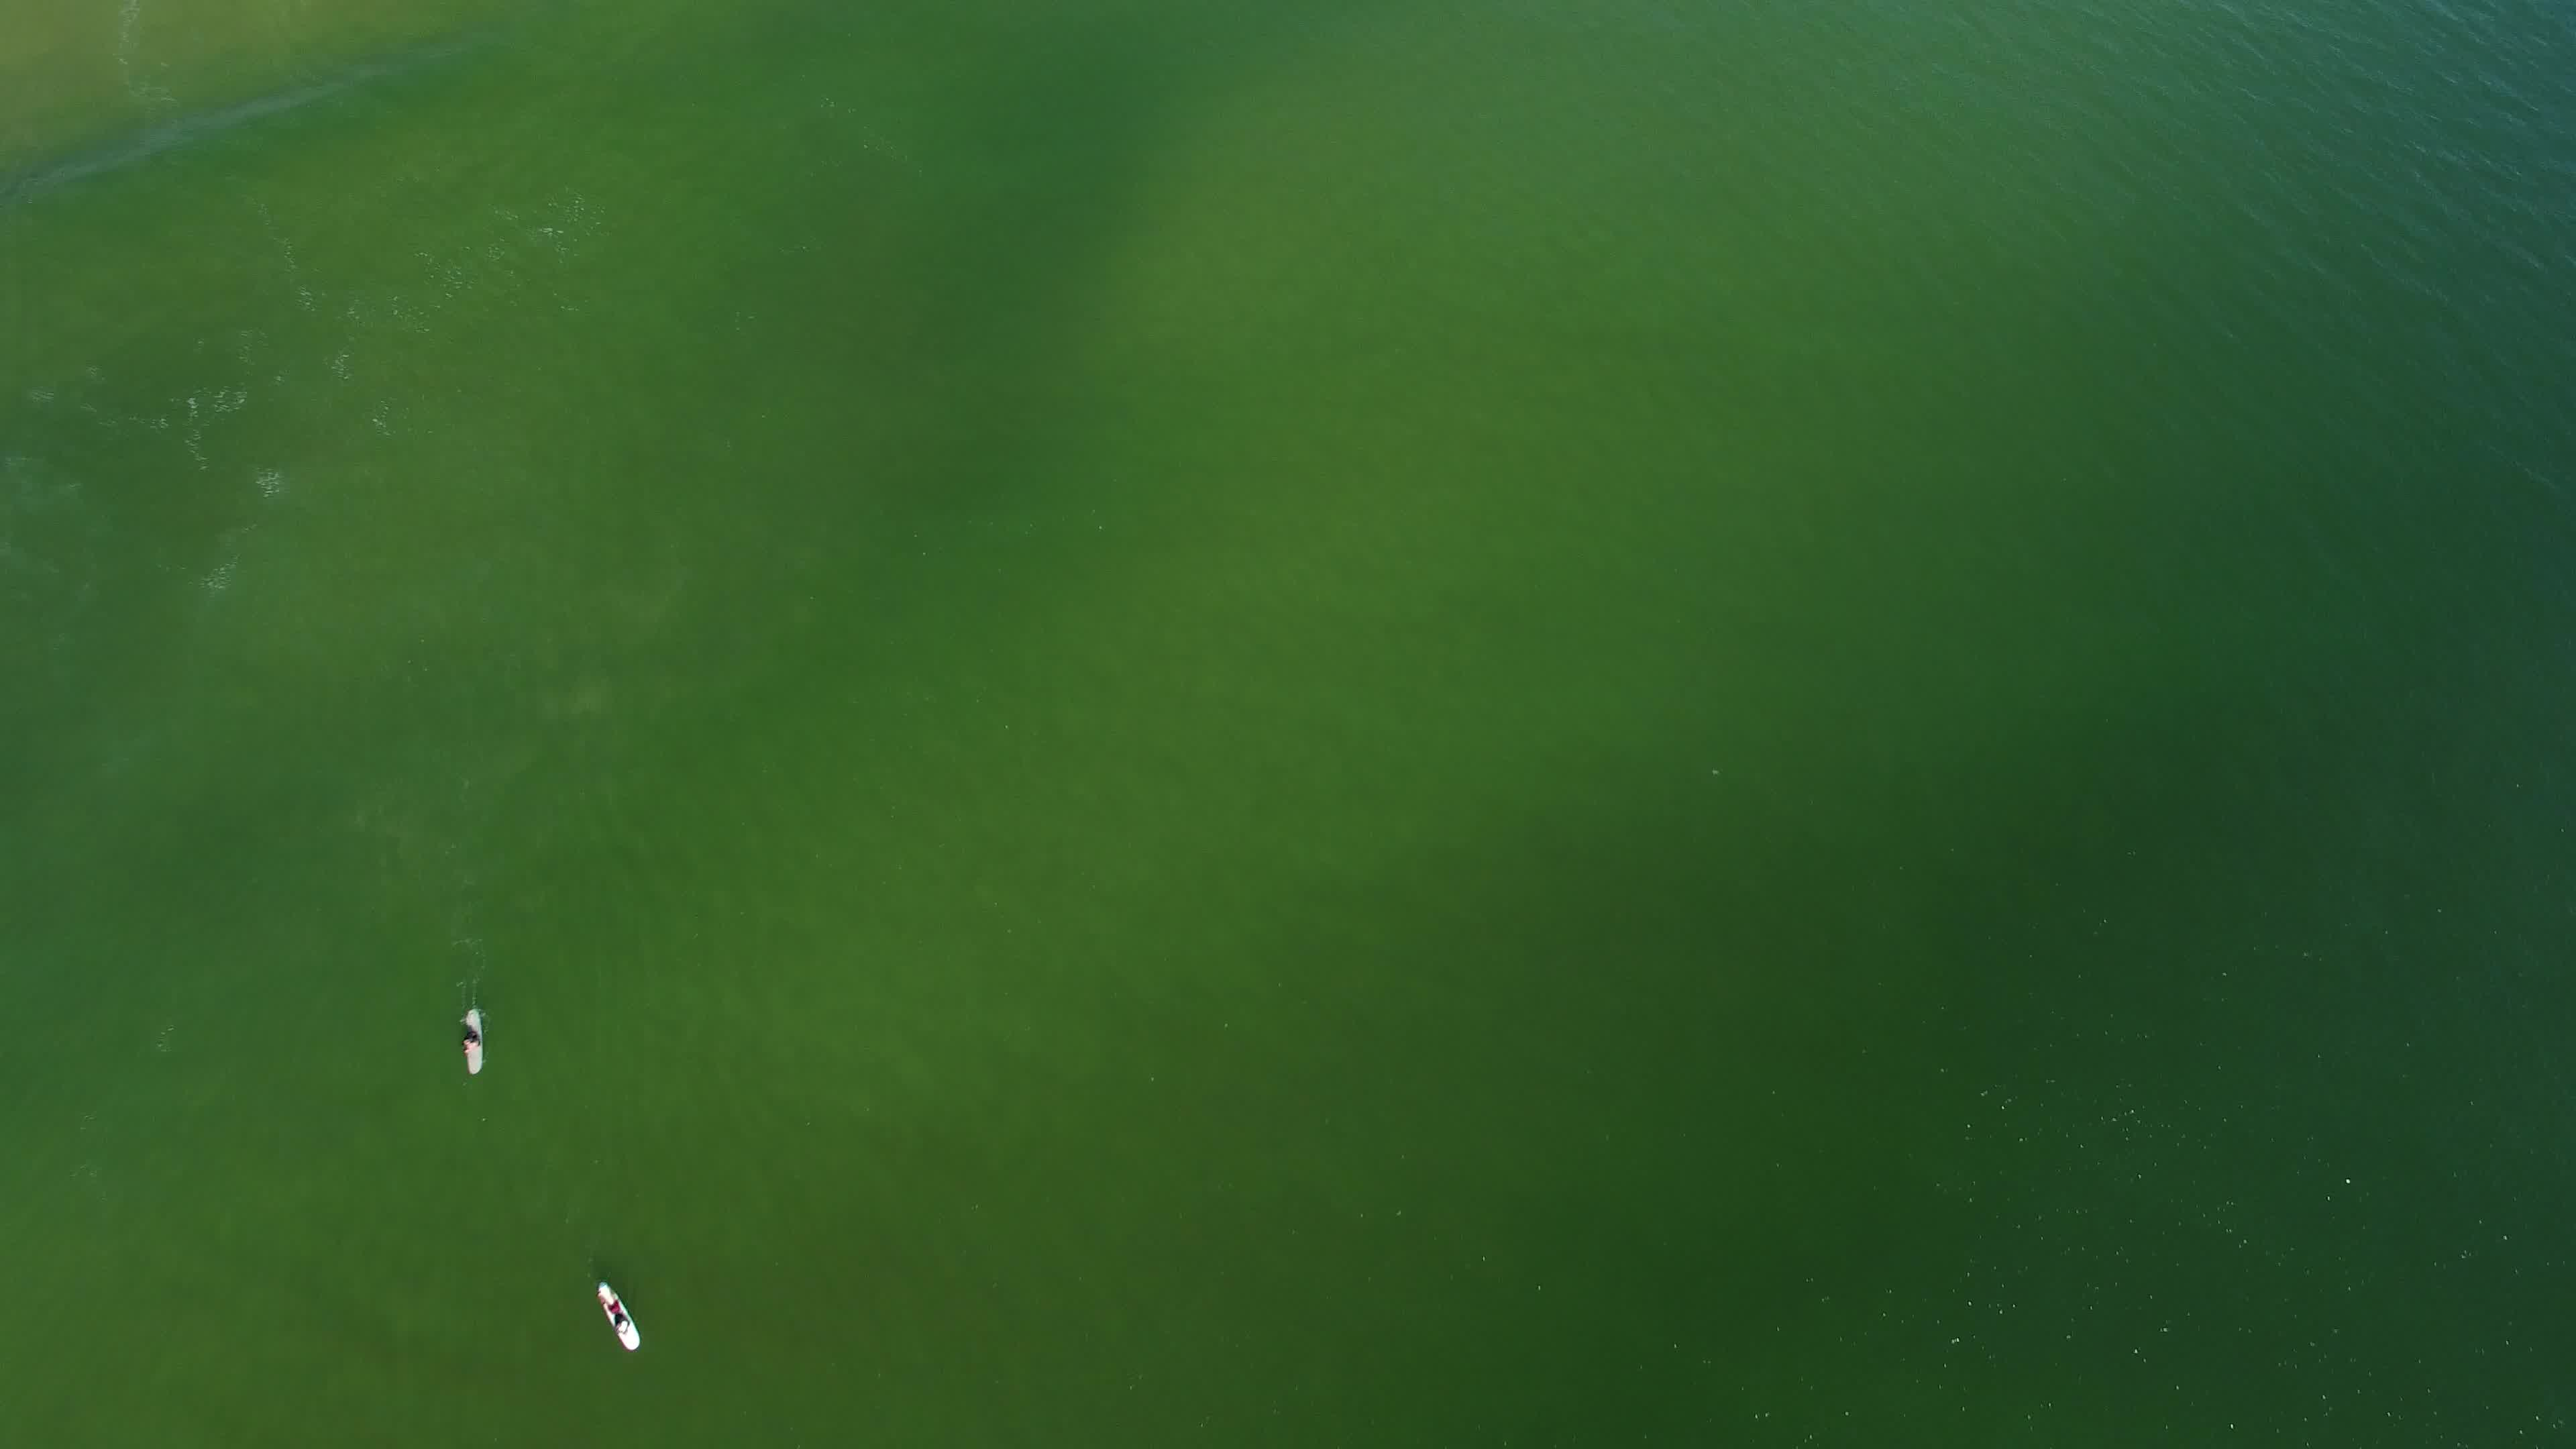surfer: (584, 1269, 655, 1359), (446, 998, 501, 1088)
